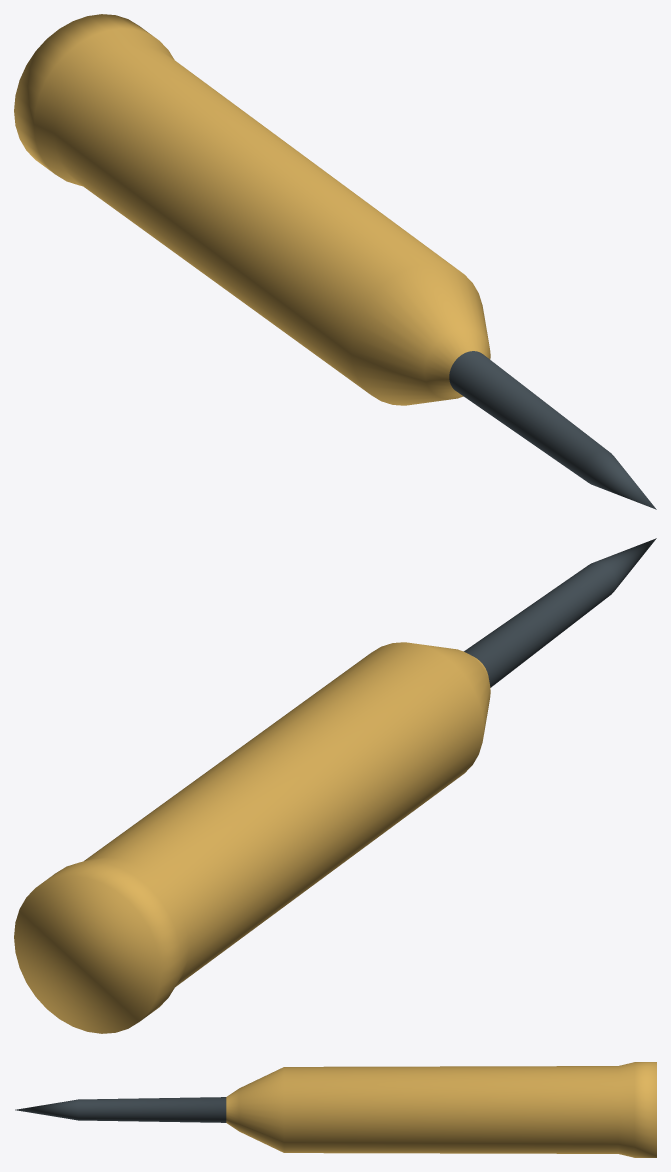
The model's file is tank_dart_round_display.glb.
3 views of the same model, one above another, from view 1: azimuth 30°, elevation 25°; view 2: azimuth 150°, elevation 25°; view 3: azimuth 270°, elevation 25° (orthographic). The views are drawn at different scales.
Parts seen in each view (by area): view 1: AMMO_MESH.039; view 2: AMMO_MESH.039; view 3: AMMO_MESH.039.
Boxes of the visible parts, <box> form: AMMO_MESH.039: <box>14,14,656,509</box>; AMMO_MESH.039: <box>14,538,656,1033</box>; AMMO_MESH.039: <box>15,1062,656,1157</box>.
Size of the model in its own units: 0.14 by 0.14 by 0.94.
